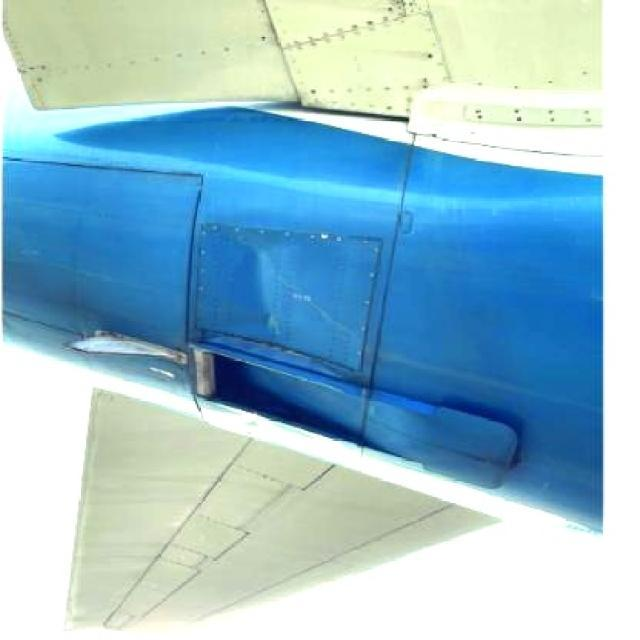dent: (203, 235, 291, 361)
